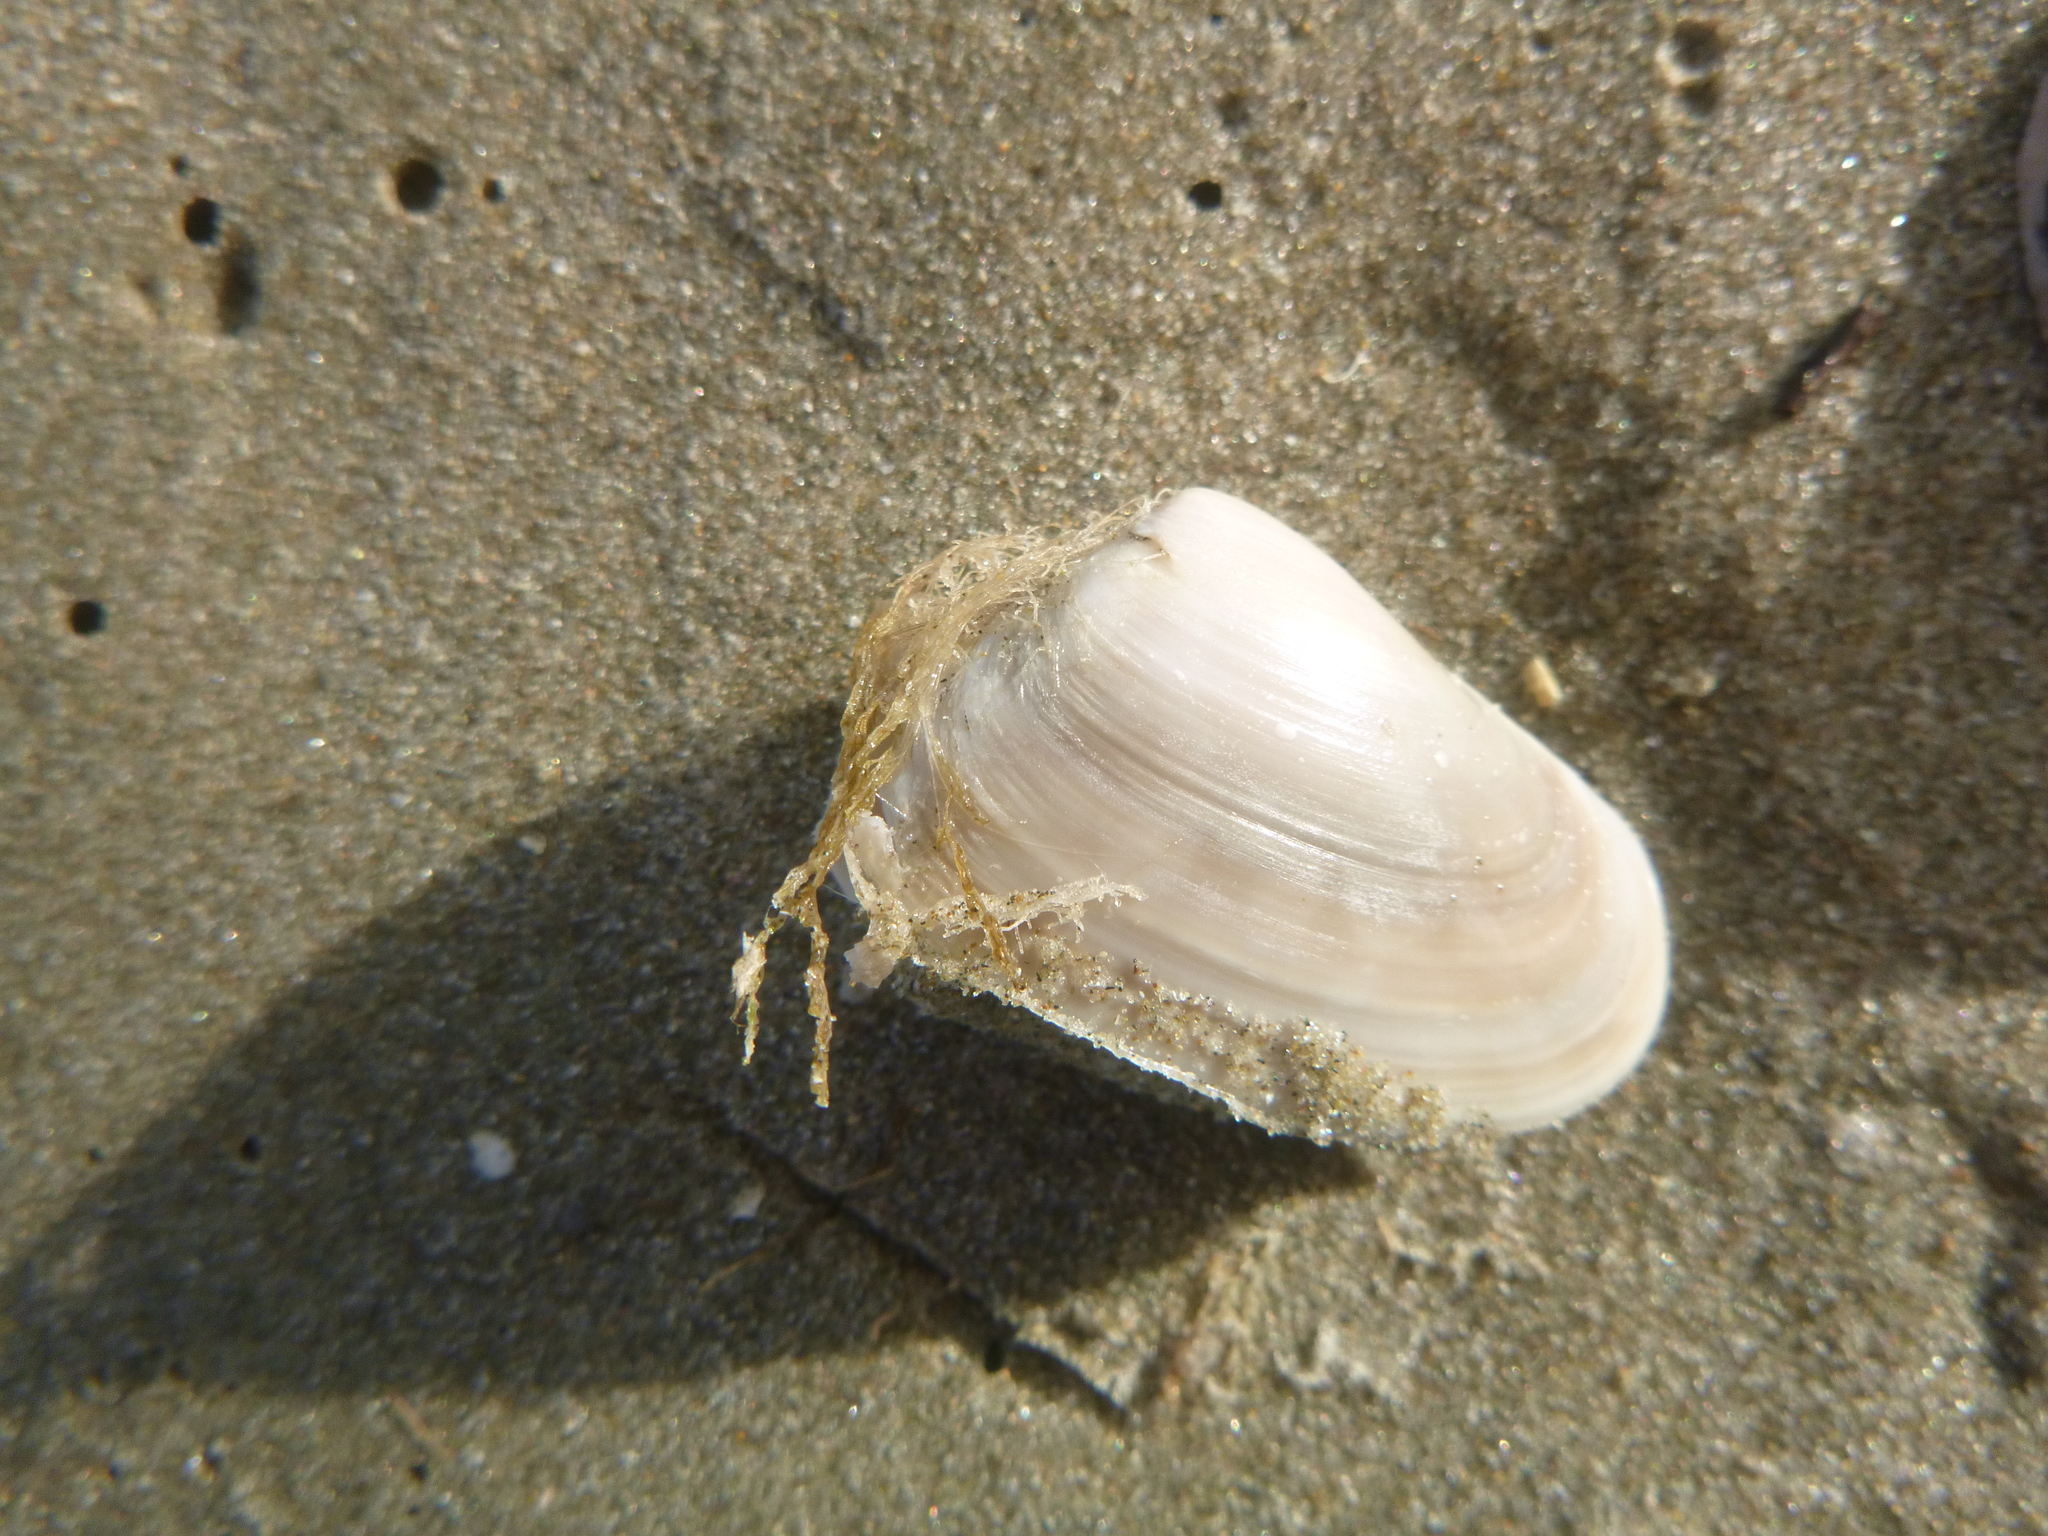tuatua: (813, 474, 1687, 1179)
